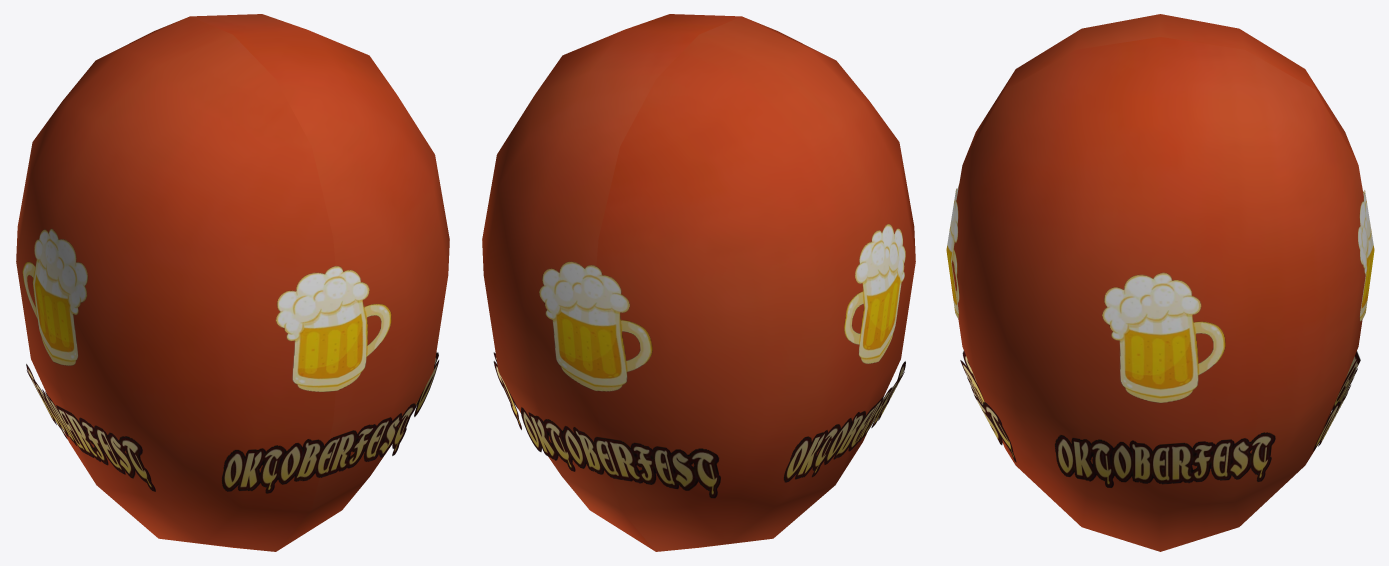
The model's file is pm-balloon-interactible-red.glb.
The picture shows the model from 3 angles, left to right: view 1: azimuth 30°, elevation 25°; view 2: azimuth 150°, elevation 25°; view 3: azimuth 270°, elevation 25°; orthographic projection.
Visible parts, largest first — view 1: Balloon_Interactible_Red; view 2: Balloon_Interactible_Red; view 3: Balloon_Interactible_Red.
Part boxes in pixels (left/top/right/bottom): Balloon_Interactible_Red: left=16, top=14, right=449, bottom=551; Balloon_Interactible_Red: left=482, top=14, right=915, bottom=551; Balloon_Interactible_Red: left=946, top=14, right=1374, bottom=551.
Size of the model in its own units: 0.7393 by 0.9646 by 0.7393.
Materials: 3 (3 with a texture image).
